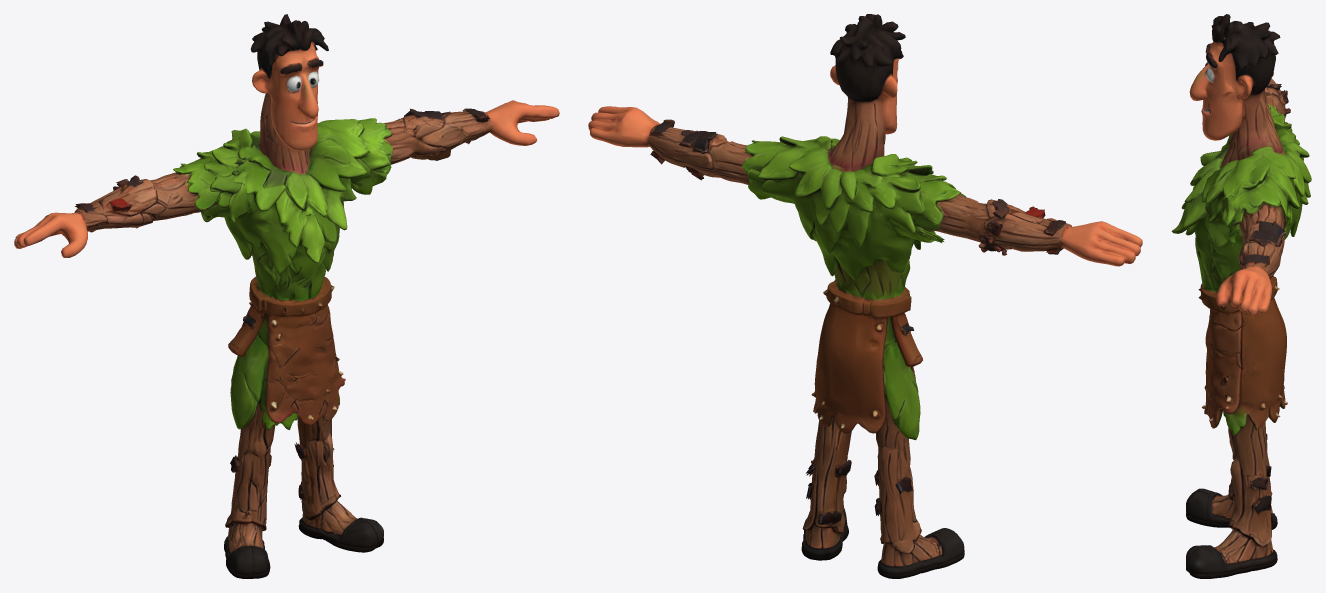
Rendered from bark_blade.glb.
3 views of the same model, side by side, from view 1: azimuth 30°, elevation 25°; view 2: azimuth 150°, elevation 25°; view 3: azimuth 270°, elevation 25° (orthographic).
Parts seen in each view (by area): view 1: bark_blade; view 2: bark_blade; view 3: bark_blade.
Boxes of the visible parts, <box> form: bark_blade: <box>14,14,559,578</box>; bark_blade: <box>588,14,1142,578</box>; bark_blade: <box>1171,14,1311,578</box>.
Size of the model in its own units: 1.86 by 1.75 by 0.4194.
1 material, 1 textured.
